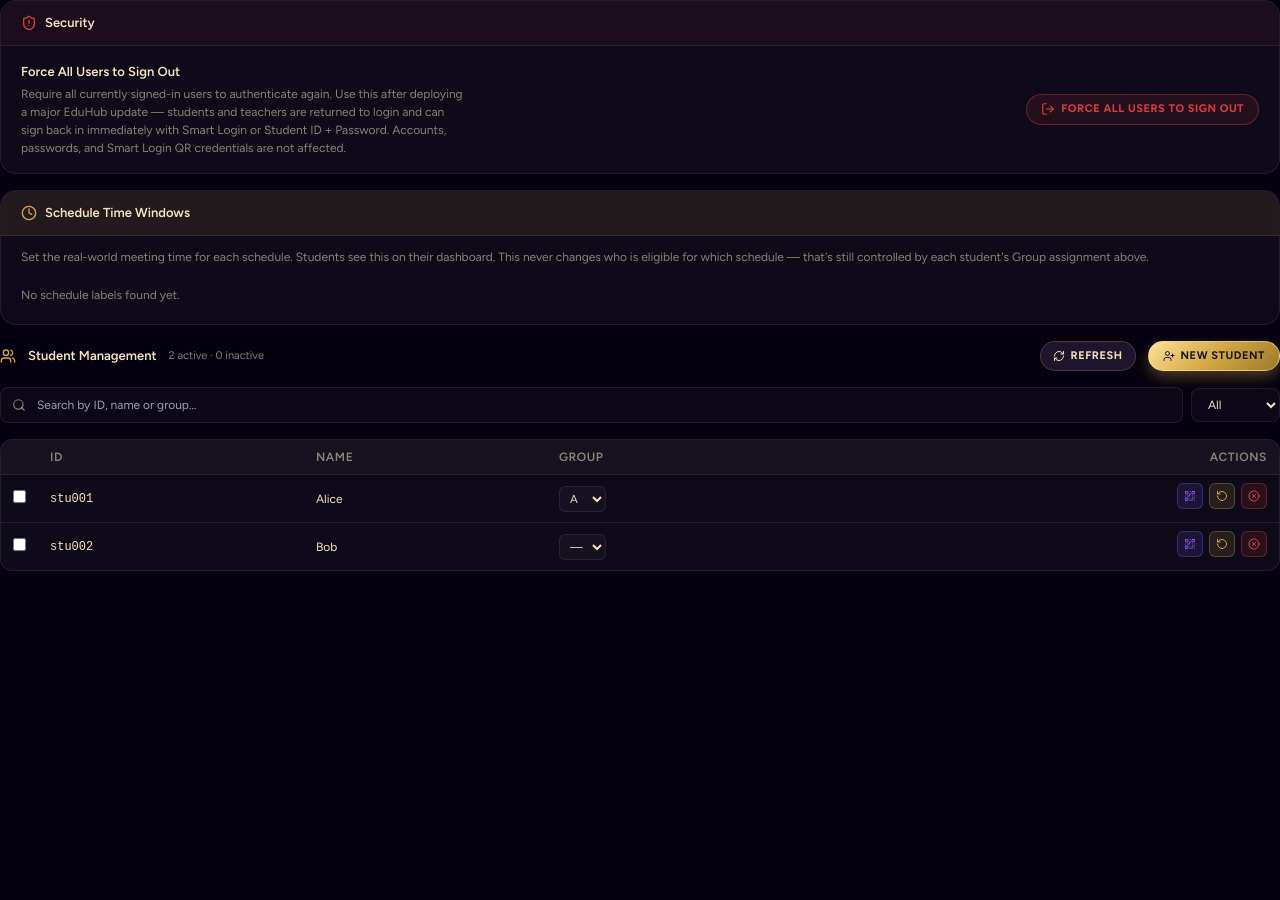
Test: StudentManager — Schedule A/B assignment (item 1) › bulk: some students needing confirmation shows a bulk confirm dialog before retrying
The image size is (1280, 900).
Click the checkbox with test id "student-select-stu001": (20,496) [13, 490, 26, 502]
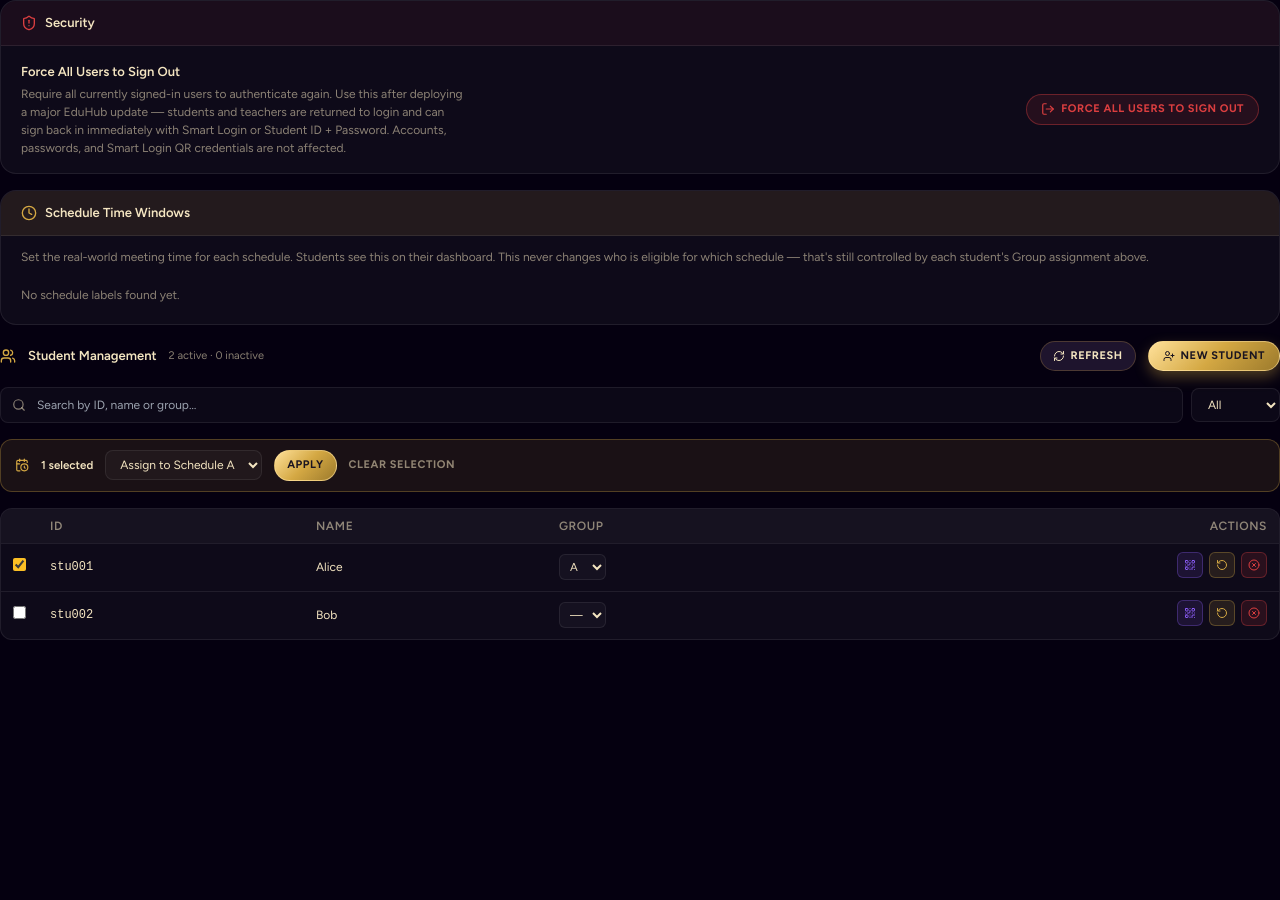
Click the button with test id "student-bulk-schedule-apply": (305,465) [274, 450, 337, 480]
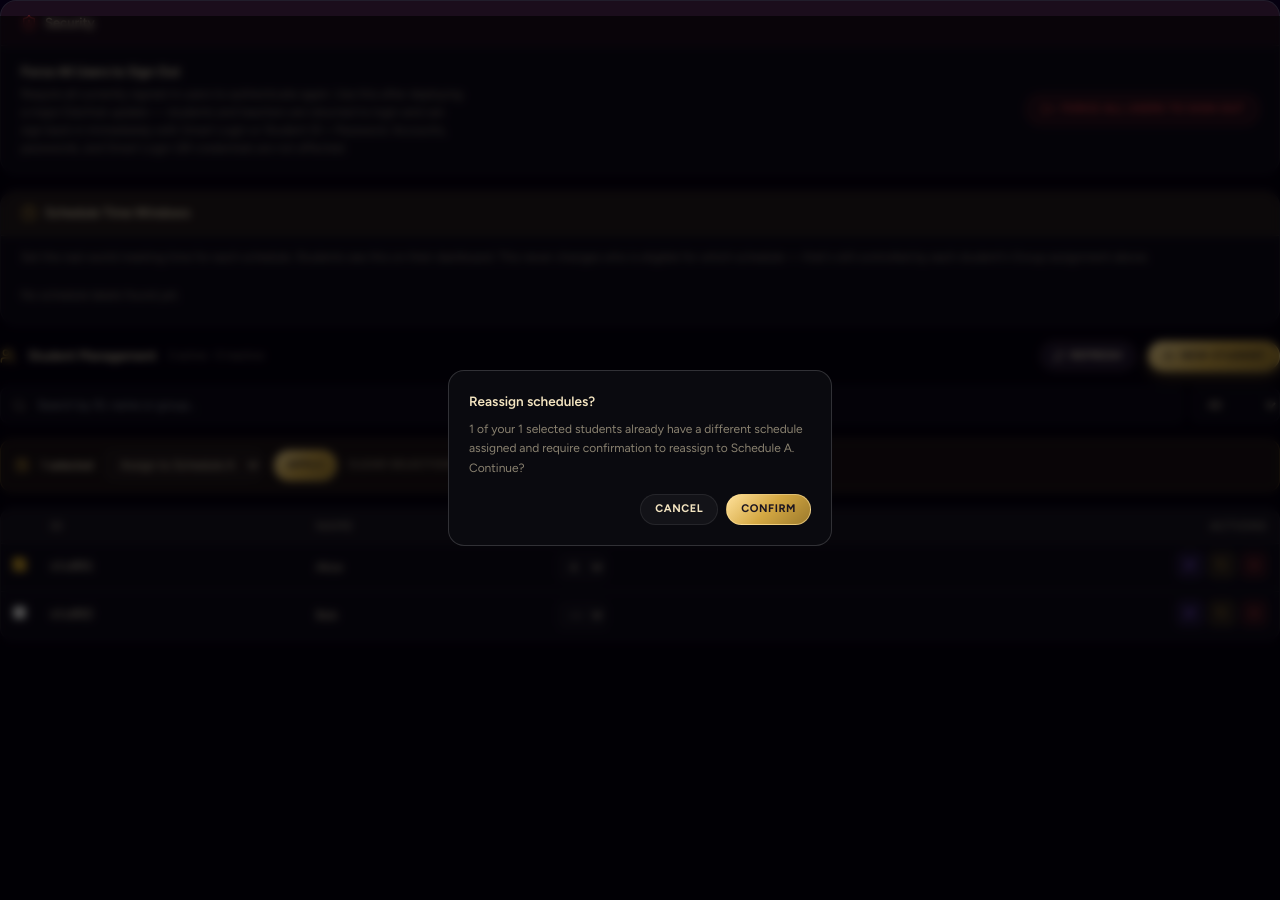
Expected: the element with test id "confirm-bulk-schedule-reassign" is shown
Click the button with test id "confirm-bulk-schedule-reassign-confirm": (769,509) [726, 494, 811, 525]
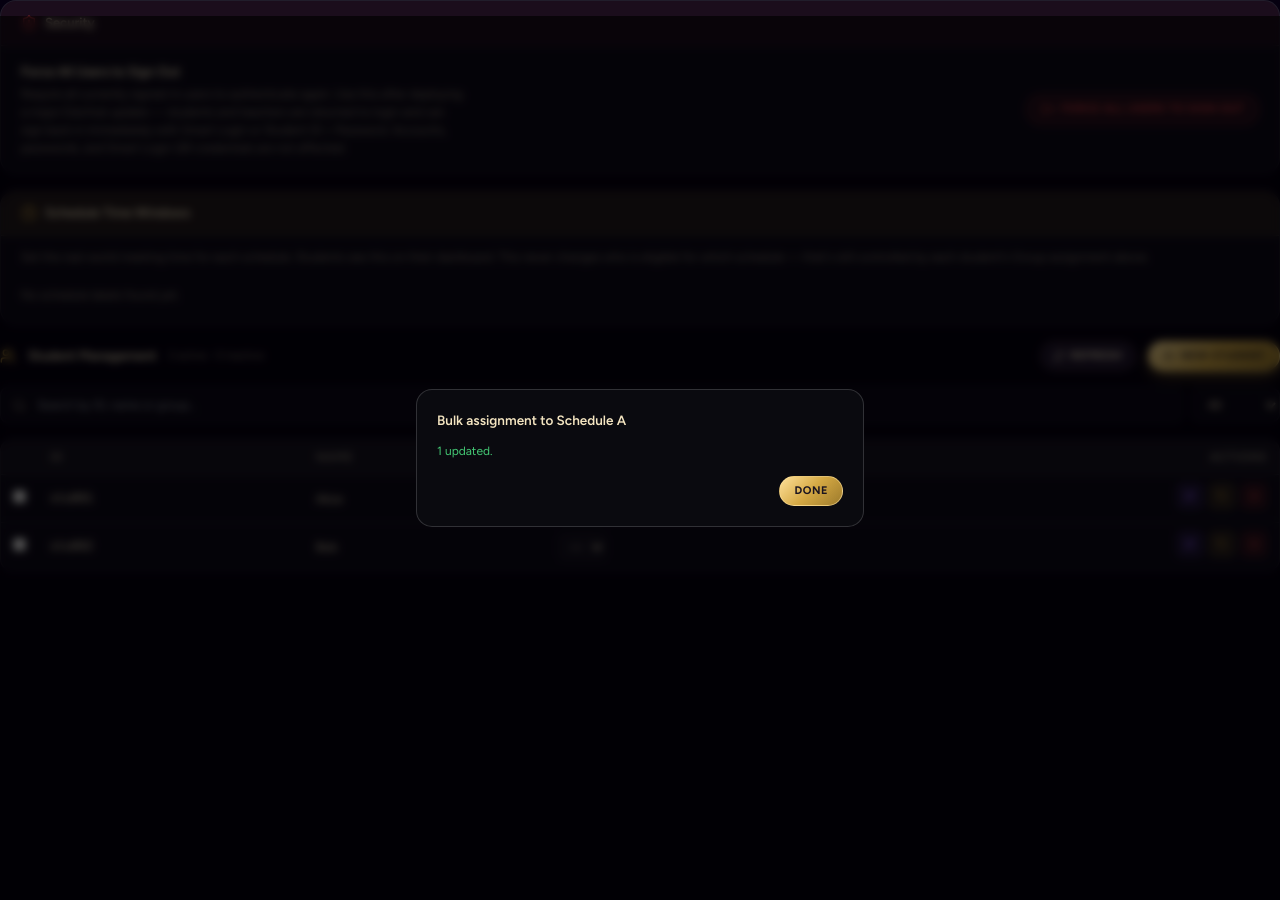
Expected: the element with test id "student-bulk-schedule-result" is shown
